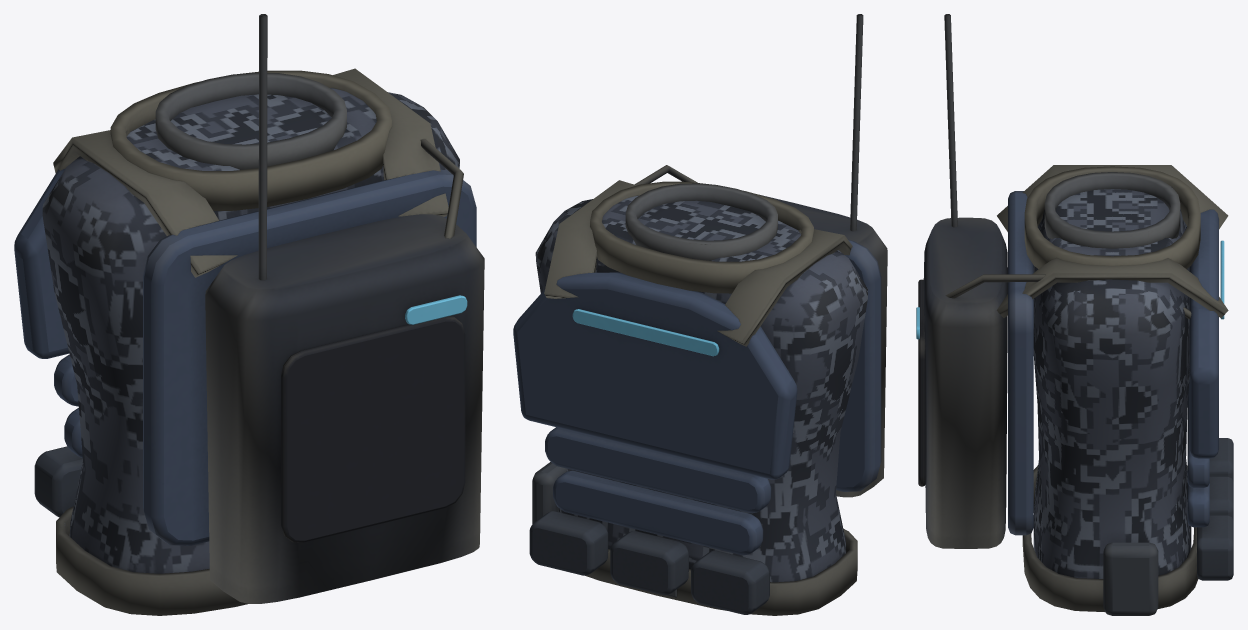
The model's file is Bravo_Torso.fbx.
The picture shows the model from 3 angles, left to right: view 1: azimuth 30°, elevation 25°; view 2: azimuth 150°, elevation 25°; view 3: azimuth 270°, elevation 25°; orthographic projection. The views are drawn at different scales.
Parts seen in each view (by area): view 1: Bravo_Torso_body, Bravo_Torso_v_antenna; view 2: Bravo_Torso_body, Bravo_Torso_v_antenna; view 3: Bravo_Torso_body, Bravo_Torso_v_antenna.
Part boxes in pixels (box(x1,y1,x2,y2)): Bravo_Torso_body: box(14, 68, 484, 615); Bravo_Torso_v_antenna: box(258, 14, 267, 280); Bravo_Torso_body: box(513, 165, 887, 615); Bravo_Torso_v_antenna: box(850, 14, 863, 231); Bravo_Torso_body: box(916, 165, 1233, 615); Bravo_Torso_v_antenna: box(944, 14, 957, 227).
Bounding box in the file's own units: 186 × 300 × 173.
1 material, 1 textured.
